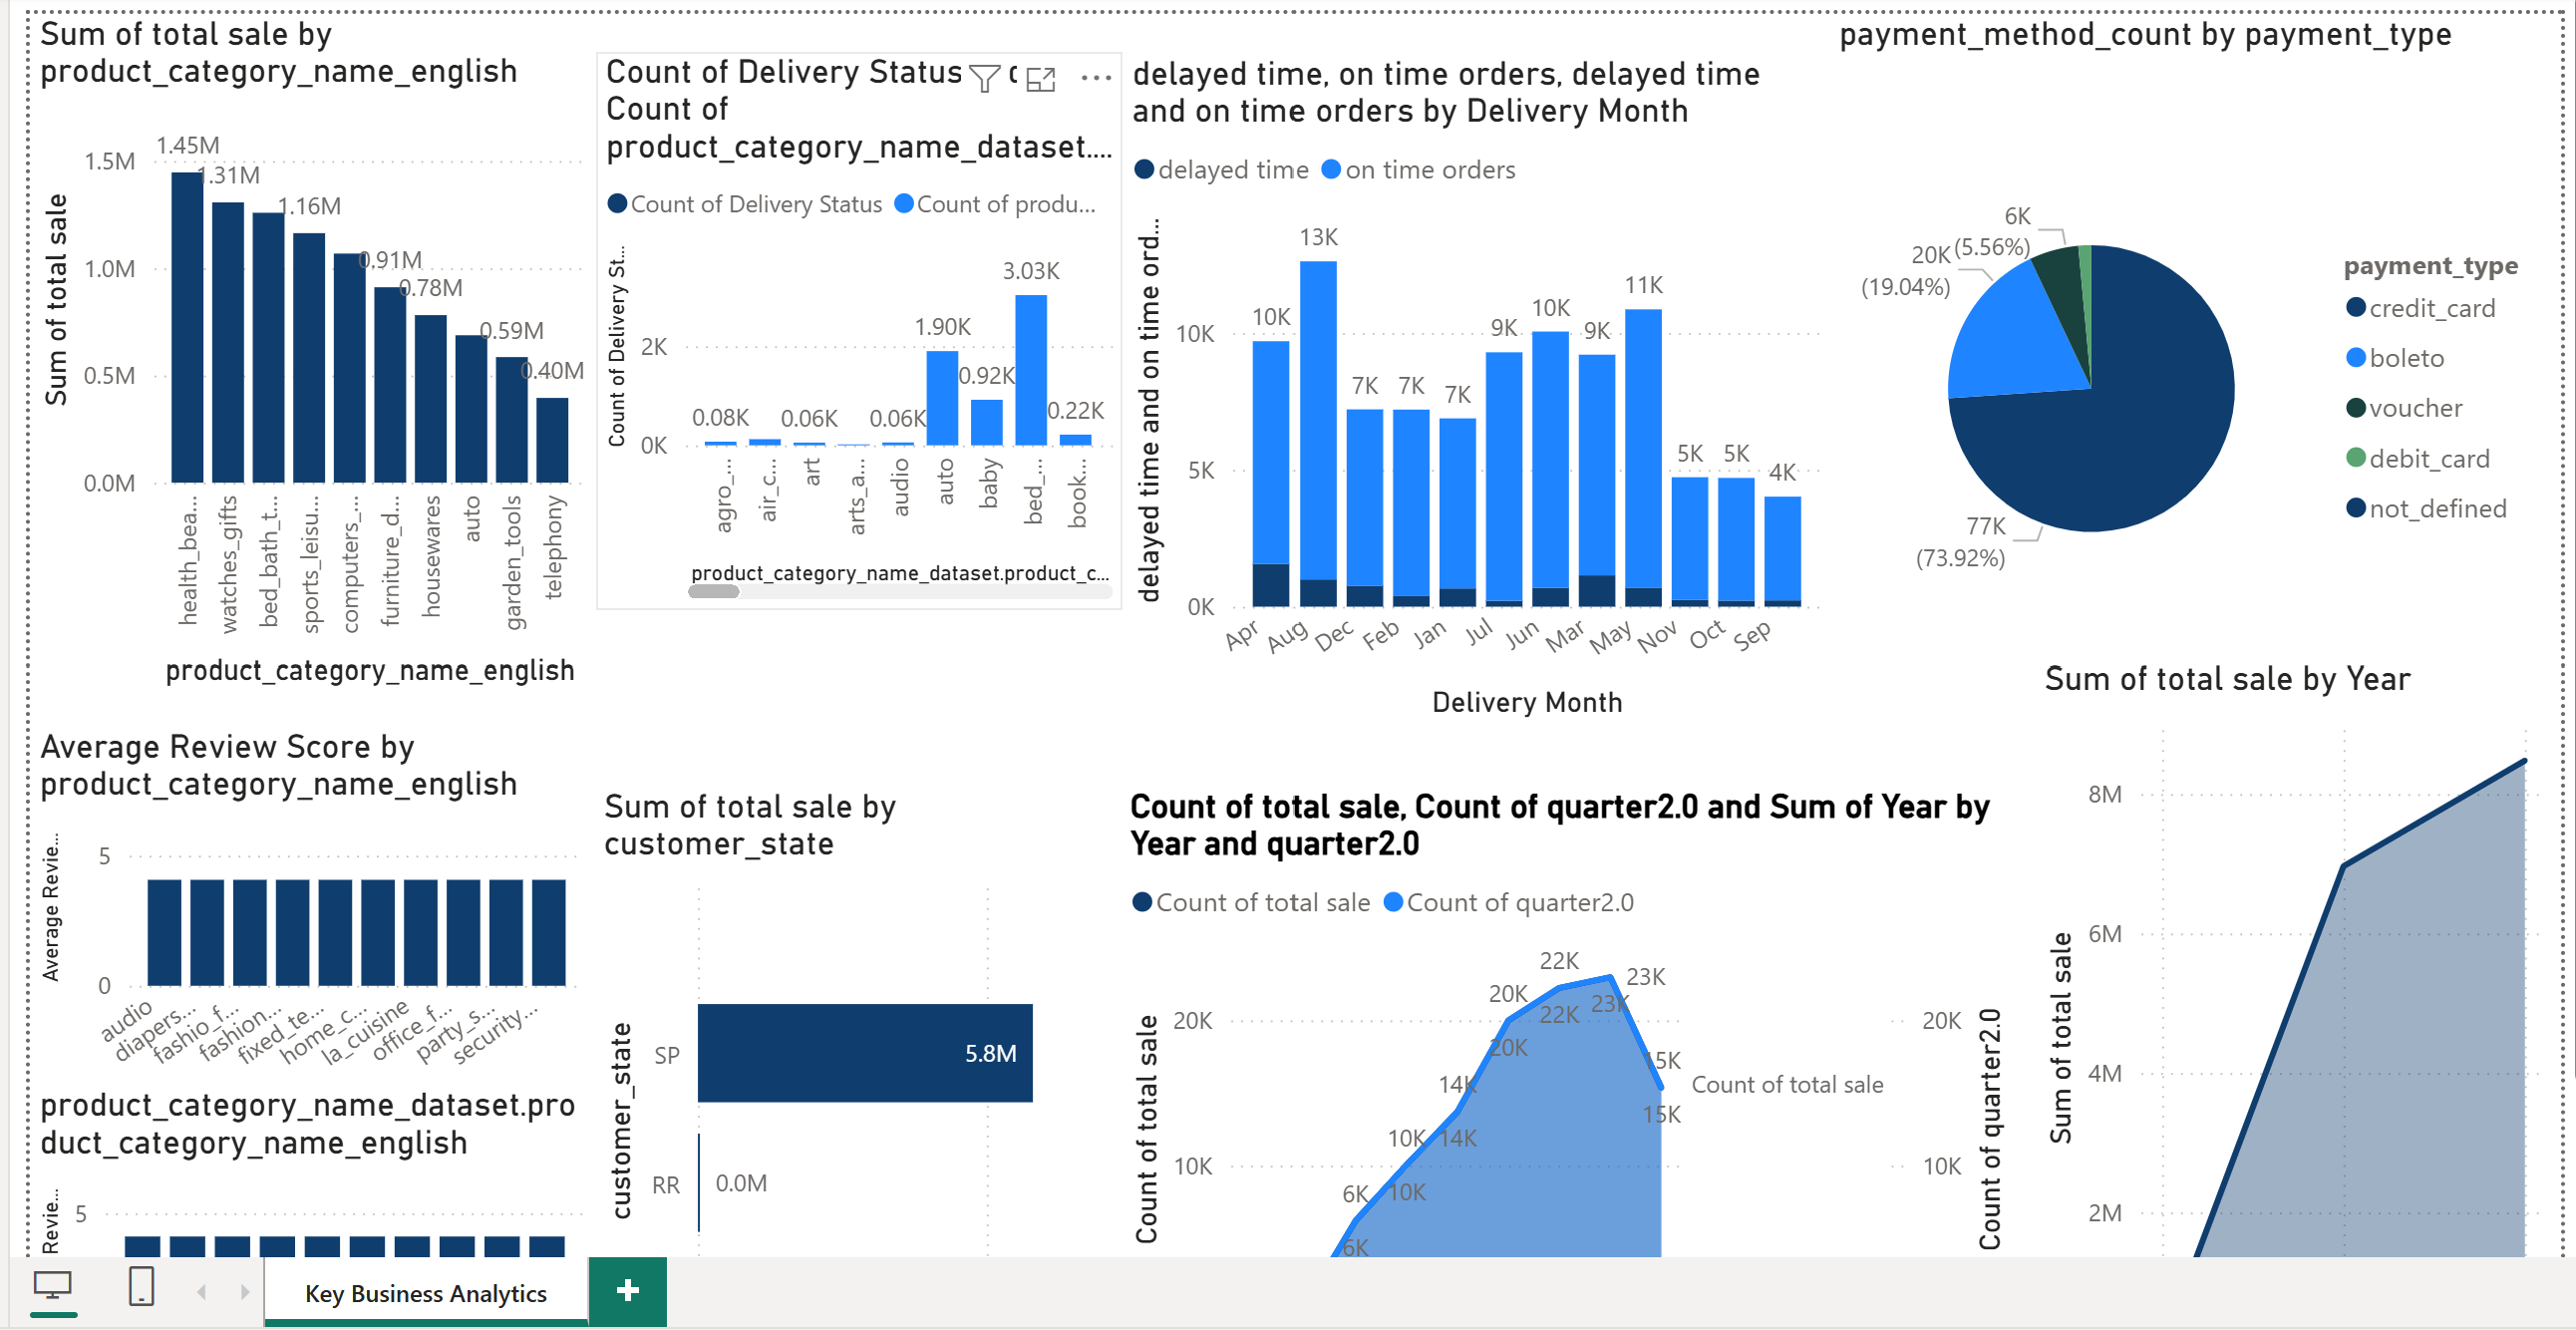

What the dashboard file says about the page in this screenshot:
{"tool":"powerbi","page":{"name":"Key Business Analytics","canvas":[1280,720],"ordinal":0},"visuals":[{"type":"pieChart","fields":{"Category":["order_payments_dataset.payment_type"],"Y":["order_payments_dataset.payment_method_count"]},"box":[910,0,371.2,360],"z":0},{"type":"columnChart","fields":{"Category":["products_lookup.product_category_name_dataset.product_category_name_english"],"Y":["Count(orders_lookup.Delivery Status)","CountNonNull(products_lookup.product_category_name_dataset.product_category_name_english)"]},"box":[286,19.5,266.5,282.1],"z":1000},{"type":"columnChart","fields":{"Category":["orders_lookup.month","orders_lookup.Year"],"Y":["orders_lookup.delayed time","orders_lookup.on time orders"]},"box":[552.5,20,357.5,340],"z":2000},{"type":"columnChart","fields":{"Category":["products_lookup.product_category_name_dataset.product_category_name_english"],"Y":["order_reviews_lookup.Average Review Score"]},"box":[0,522.5,285,200],"z":3000},{"type":"actionButton","box":[0,0,100,40],"z":4000},{"type":"columnChart","fields":{"Category":["product_category_name_dataset.product_category_name_english"],"Y":["Sum(order_items_lookup.total sale)"]},"box":[0,0,285.9,344.6],"z":5000},{"type":"clusteredBarChart","fields":{"Y":["Sum(order_items_lookup.total sale)"],"Category":["customers_lookup.customer_state"]},"box":[285.7,390.5,266.1,329.5],"z":6000},{"type":"areaChart","fields":{"Category":["orders_lookup.Year","order_items_lookup.quarter2.0"],"Y2":["CountNonNull(order_items_lookup.quarter2.0)"],"Y":["CountNonNull(order_items_lookup.total sale)"]},"box":[551.8,390.5,451.6,329.5],"z":7000},{"type":"lineChart","fields":{"Y":["Sum(order_items_lookup.total sale)"],"Category":["orders_lookup.Year"]},"box":[1014,326,266,394],"z":8000},{"type":"columnChart","fields":{"Category":["product_category_name_dataset.product_category_name_english"],"Y":["order_reviews_lookup.Average Review Score"]},"box":[0,360,285,185],"z":9000}]}

Visuals, with their boxes on the page's 1280x720 design canvas (x1, y1, x2, y2). These are canvas units, not pixel positions in the 2576x1330 screenshot, which may show the page scaled, cropped or inside an application window:
pieChart - order_payments_dataset.payment_type x order_payments_dataset.payment_method_count: 910,0,1281,360
columnChart - products_lookup.product_category_name_dataset.product_category_name_english x Count(orders_lookup.Delivery Status): 286,20,552,302
columnChart - orders_lookup.month x orders_lookup.Year: 552,20,910,360
columnChart - products_lookup.product_category_name_dataset.product_category_name_english x order_reviews_lookup.Average Review Score: 0,522,285,722
actionButton: 0,0,100,40
columnChart - product_category_name_dataset.product_category_name_english x Sum(order_items_lookup.total sale): 0,0,286,345
clusteredBarChart - Sum(order_items_lookup.total sale) x customers_lookup.customer_state: 286,390,552,720
areaChart - orders_lookup.Year x order_items_lookup.quarter2.0: 552,390,1003,720
lineChart - Sum(order_items_lookup.total sale) x orders_lookup.Year: 1014,326,1280,720
columnChart - product_category_name_dataset.product_category_name_english x order_reviews_lookup.Average Review Score: 0,360,285,545
